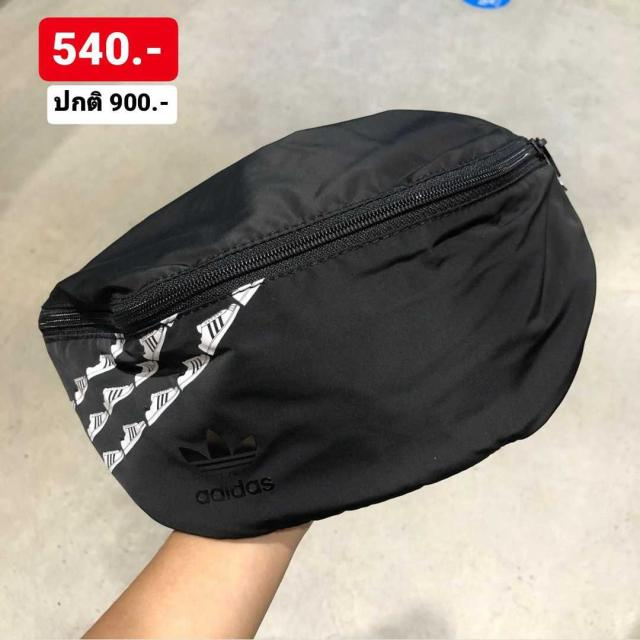Handbag: (39, 105, 597, 538)
